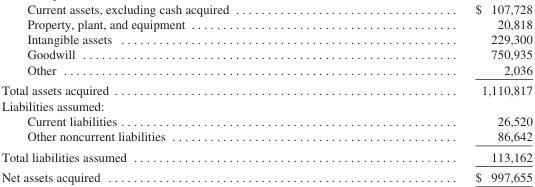table: (0, 1, 531, 183)
table column: (0, 1, 351, 183), (351, 1, 531, 183)
table projected row header: (0, 97, 531, 112)
table row: (0, 146, 531, 166), (0, 61, 531, 79), (0, 79, 531, 97), (0, 128, 531, 146), (0, 166, 531, 183), (0, 15, 531, 31), (0, 112, 531, 128), (0, 31, 531, 46), (0, 46, 531, 61), (0, 97, 531, 112), (0, 1, 531, 15)
